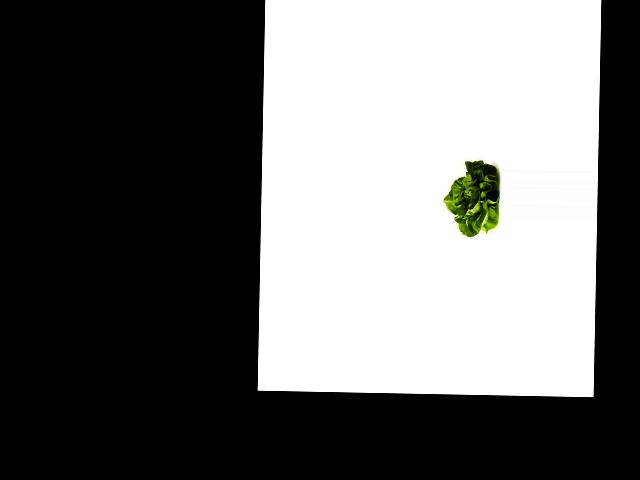lettuce: (443, 158, 500, 240)
